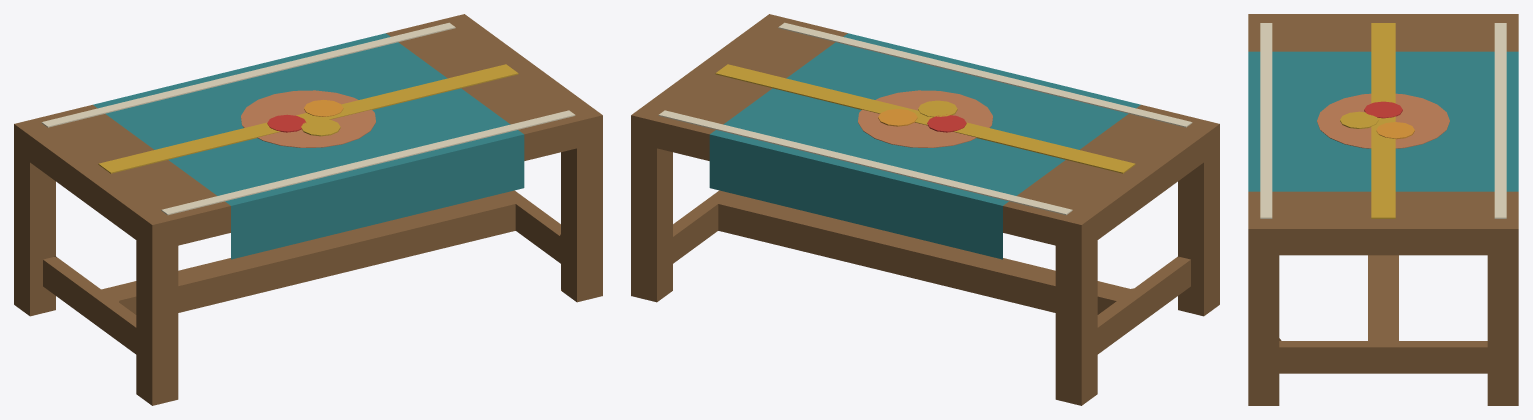
The model's file is tableCloth.glb.
3 views of the same model, side by side, from view 1: azimuth 30°, elevation 25°; view 2: azimuth 150°, elevation 25°; view 3: azimuth 270°, elevation 25° (orthographic). The views are drawn at different scales.
Parts seen in each view (by area): view 1: tableCloth(Clone); view 2: tableCloth(Clone); view 3: tableCloth(Clone).
Boxes of the visible parts, x1,y1,x2,y2 form: tableCloth(Clone): (14,14,602,405); tableCloth(Clone): (631,14,1219,405); tableCloth(Clone): (1248,14,1518,405).
Bounding box in the file's own units: 0.8415 × 0.3267 × 0.4474.
